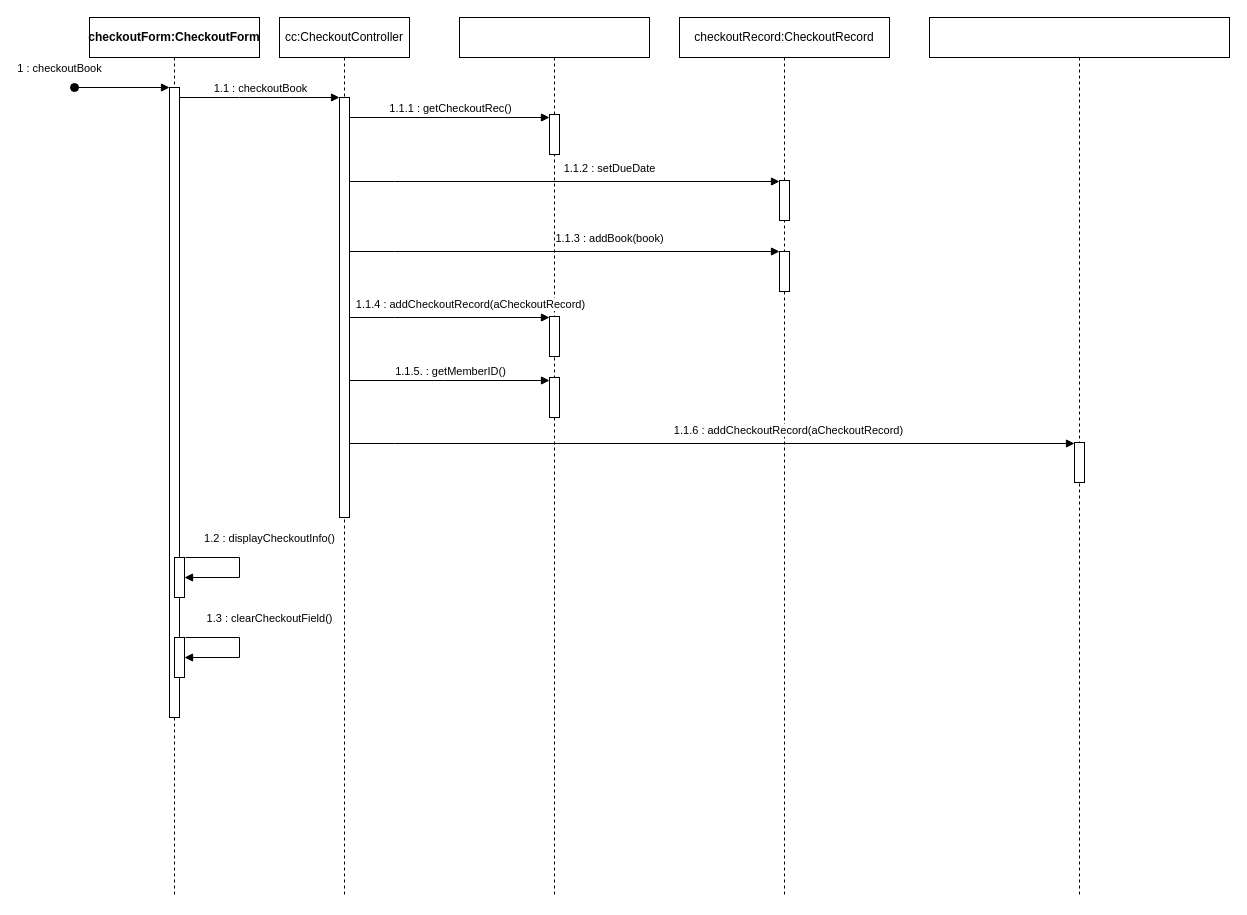
The diagram is 1247 pixels wide and 915 high, and some of its shapes have lost their labels. The shapes that lost their labels are listed below. From the top down, each one's box as (x1, y1, x2, y2) in pixels, then its label:
(458, 16, 650, 898): libraryMember:LibraryMember
(928, 16, 1230, 898): theILibraryDBSubSystem:TheILibraryDBSubSystem
